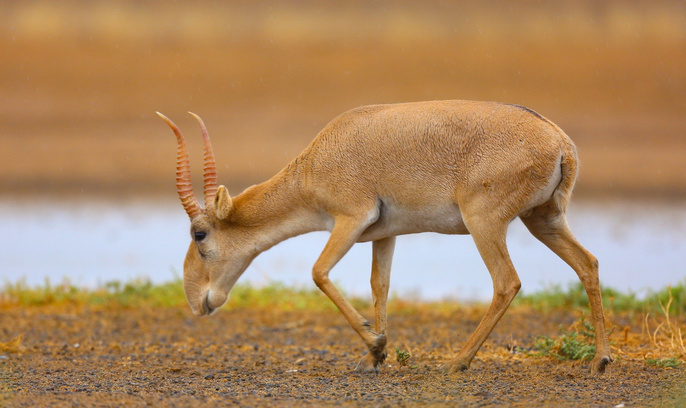saiga: (154, 99, 614, 379)
